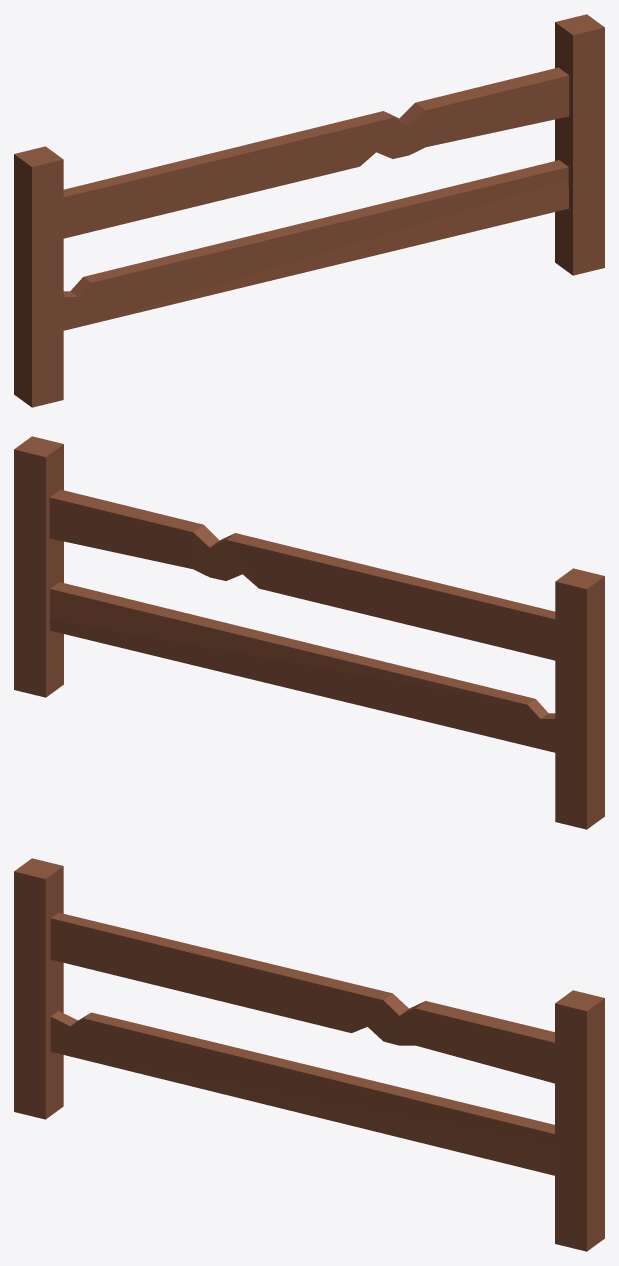
Rendered from fence.2.close.glb.
3 views of the same model, one above another, from view 1: azimuth 30°, elevation 25°; view 2: azimuth 150°, elevation 25°; view 3: azimuth 330°, elevation 25° (orthographic).
Parts seen in each view (by area): view 1: fence.2.close; view 2: fence.2.close; view 3: fence.2.close.
Boxes of the visible parts, x1,y1,x2,y2 form: fence.2.close: [14, 14, 604, 407]; fence.2.close: [14, 436, 604, 829]; fence.2.close: [14, 858, 604, 1251].
Bounding box in the file's own units: 3.03 × 1.21 × 0.1655.
